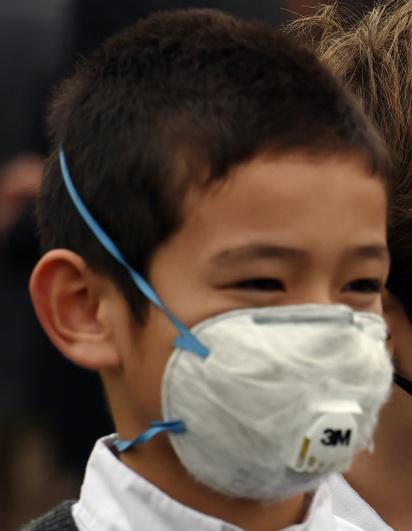OK: (160, 200, 393, 500)
